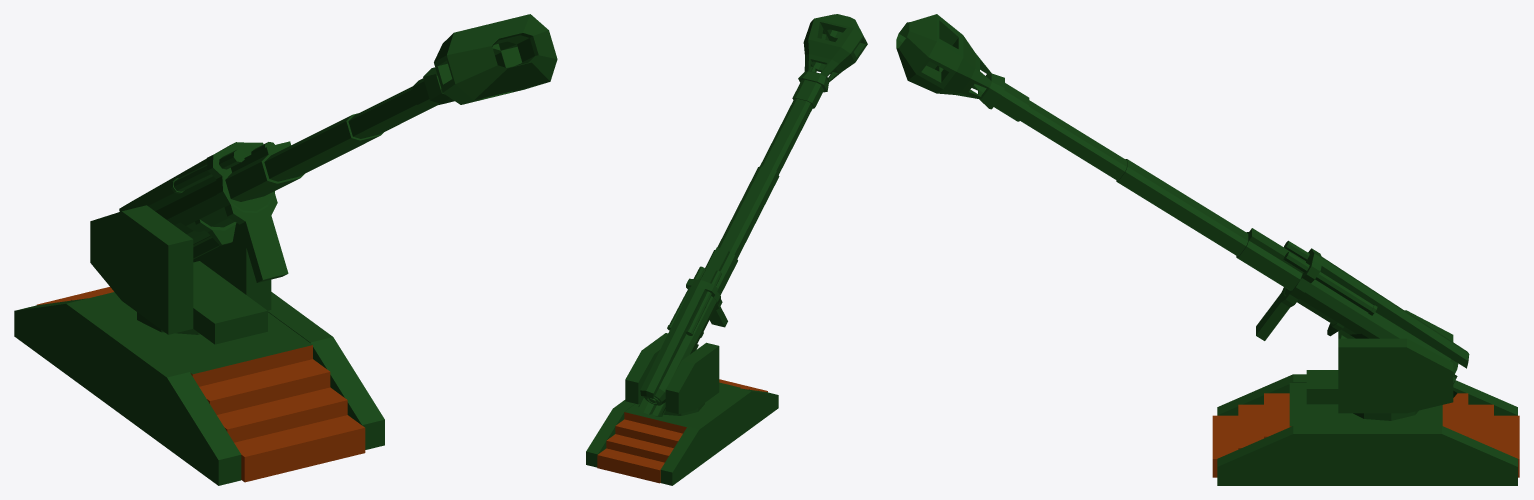
File: artilleria chiclosa.fbx
3 renders of one model, left to right at view 1: azimuth 30°, elevation 25°; view 2: azimuth 150°, elevation 25°; view 3: azimuth 270°, elevation 25°, orthographic. The views are drawn at different scales.
Visible parts, largest first — view 1: Cube.002, Cube.003, Cube.001, Cube, Cube.004; view 2: Cube.002, Cube.003, Cube.001, Cube, Cube.004; view 3: Cube.002, Cube.004, Cube, Cube.003, Cube.001.
Boxes of the visible parts, x1,y1,x2,y2 form: Cube.002: [119, 14, 557, 282]; Cube.003: [37, 287, 365, 482]; Cube.001: [14, 298, 241, 485]; Cube: [90, 205, 271, 344]; Cube.004: [268, 292, 384, 449]; Cube.002: [638, 14, 867, 416]; Cube.003: [597, 379, 767, 483]; Cube.001: [660, 388, 778, 485]; Cube: [625, 333, 719, 414]; Cube.004: [586, 400, 635, 467]; Cube.002: [896, 14, 1469, 397]; Cube.004: [1217, 425, 1517, 485]; Cube: [1306, 310, 1453, 413]; Cube.003: [1212, 383, 1519, 477]; Cube.001: [1217, 374, 1517, 415].
Bounding box in the file's own units: 138 × 463 × 608.
